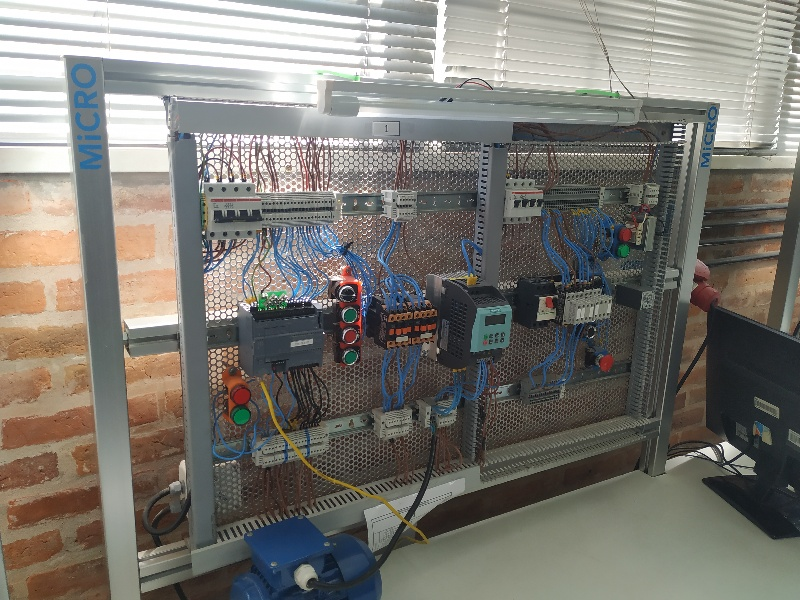Tablero 1: (181, 119, 667, 495)
